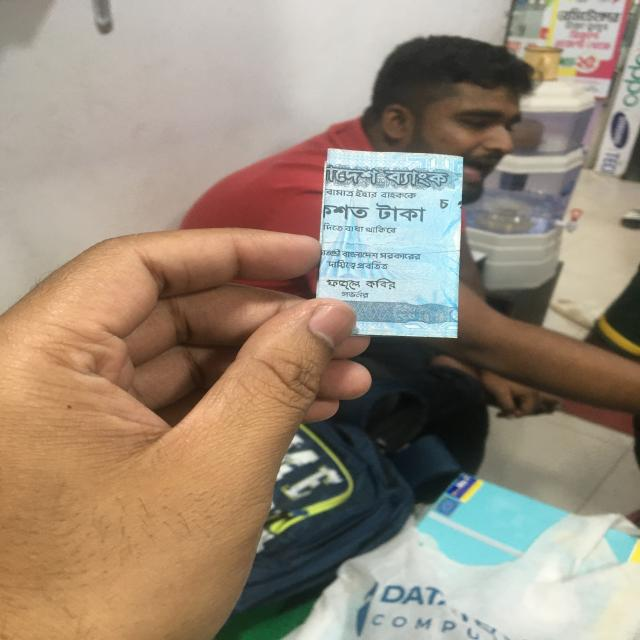Taka: (321, 148, 460, 339)
